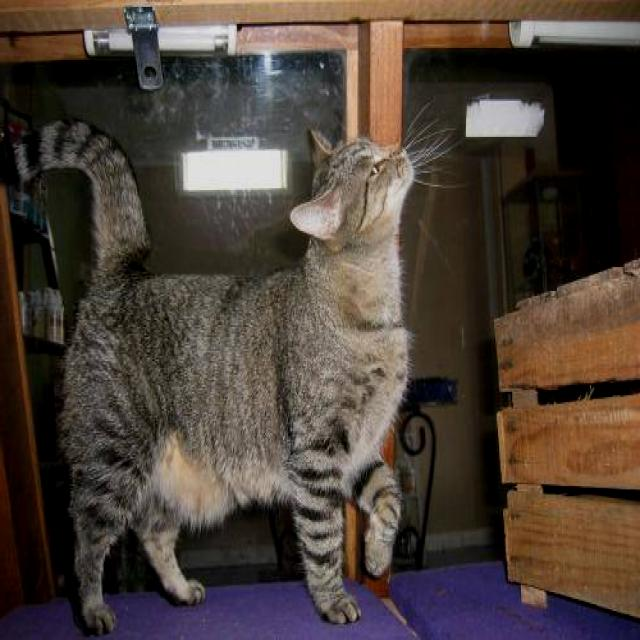Kucing: (0, 44, 496, 631)
